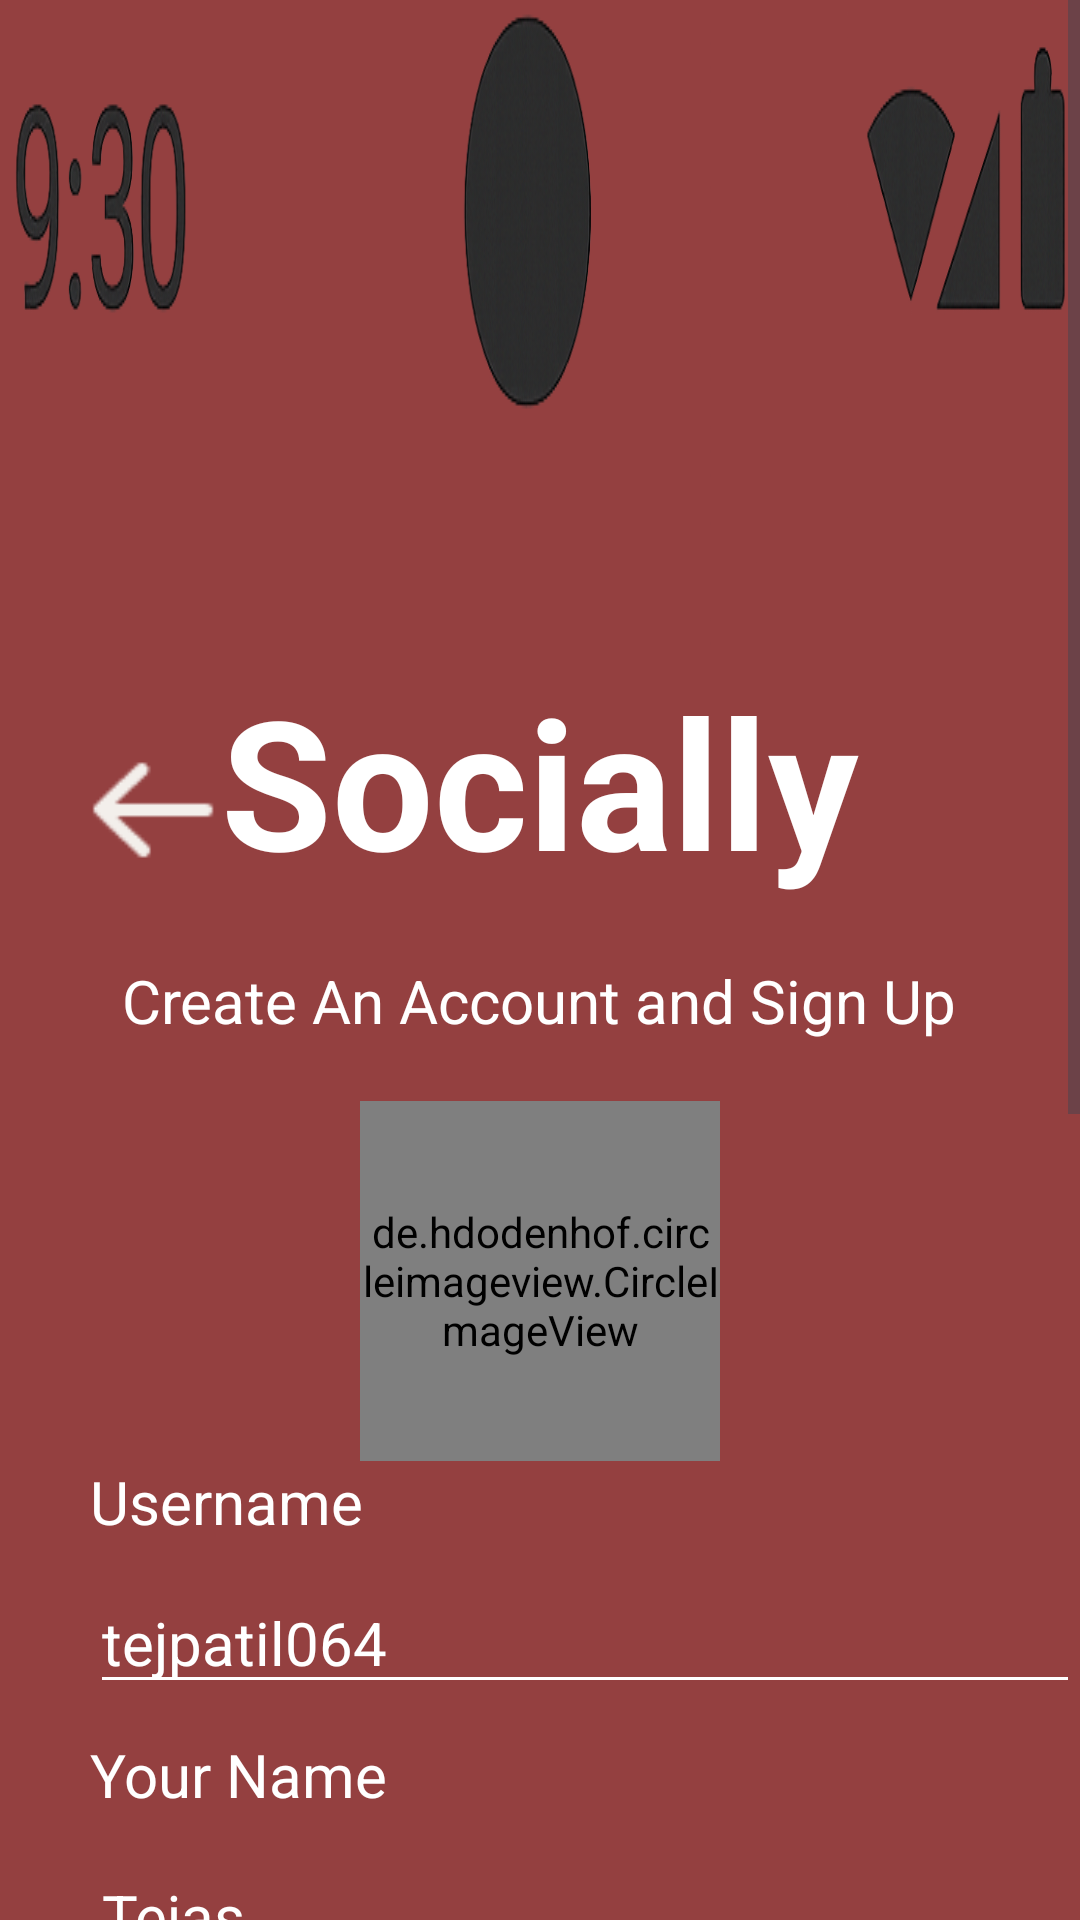

Icons on this 1080w x 1920h Android screen, each with the point to tap as (x,y):
arrow: (153,810)
